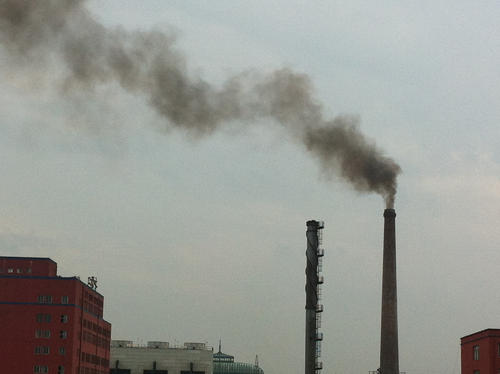smoke: (262, 68, 403, 207)
